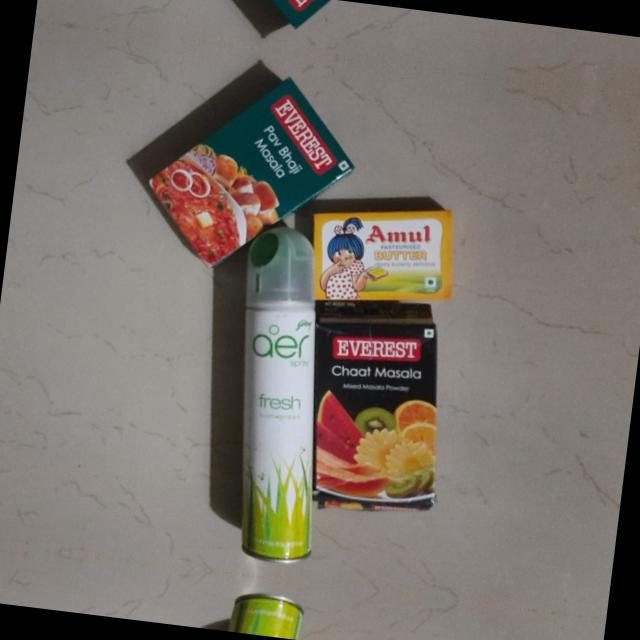Amul Butter: (301, 185, 475, 312)
Everest Chaat Masala 50 g: (302, 301, 460, 521)
Everest Pav Bhaji Masala 100 g: (119, 55, 360, 272)
Godrej Aer Lush Green Fresh Home Fragrance Spray 220 ml: (205, 224, 350, 566)
